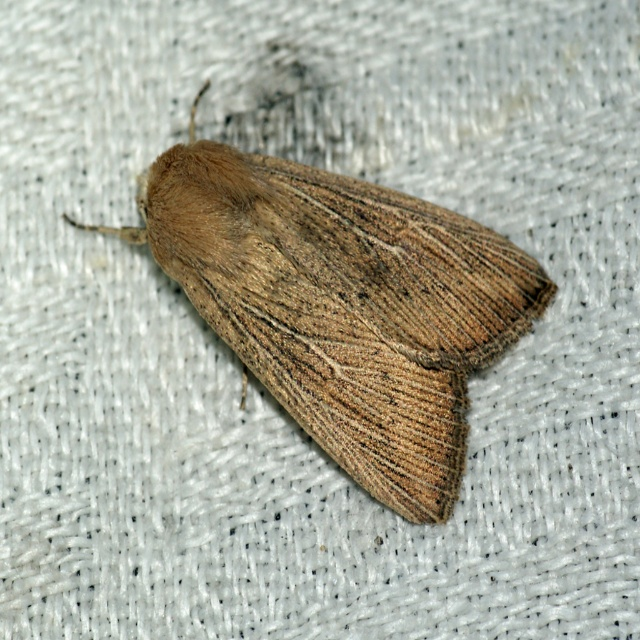Moths and butterflies: (61, 79, 561, 521)
